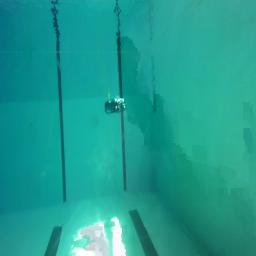Side: (104, 98, 126, 114)
